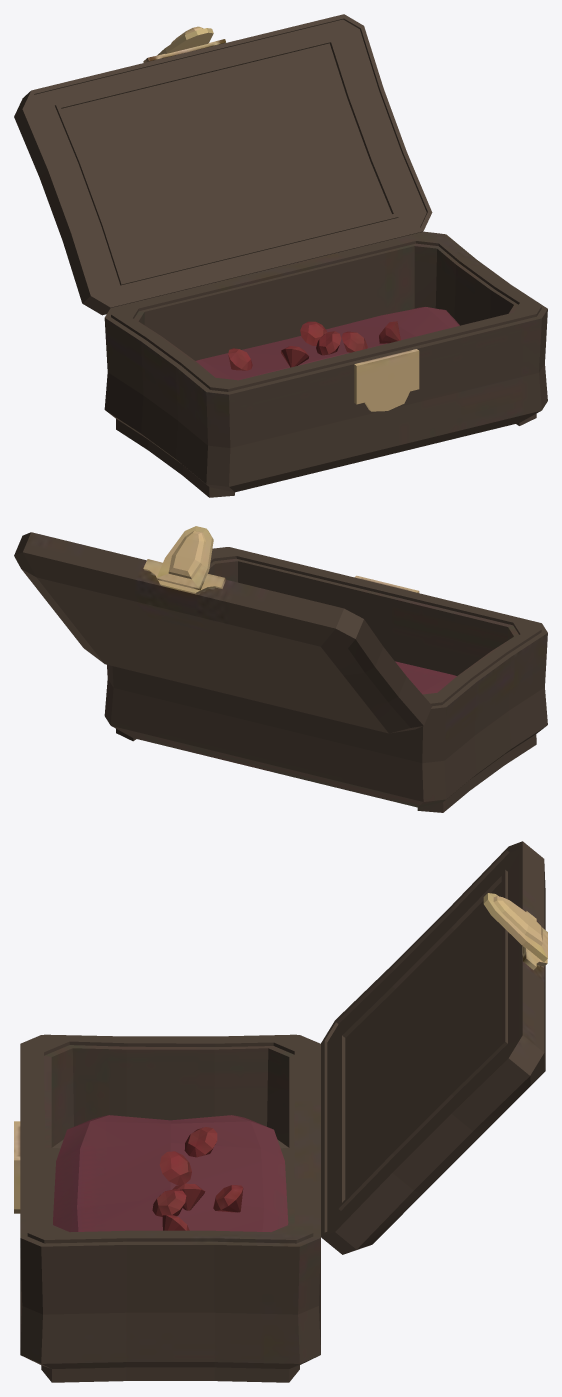
Rendered from Case.fbx.
3 renders of one model, top to bottom at view 1: azimuth 30°, elevation 25°; view 2: azimuth 150°, elevation 25°; view 3: azimuth 270°, elevation 25°, orthographic. The views are drawn at different scales.
Parts seen in each view (by area): view 1: defaultMaterial.001, defaultMaterial; view 2: defaultMaterial, defaultMaterial.001; view 3: defaultMaterial, defaultMaterial.001.
Boxes of the visible parts, x1=… form: defaultMaterial.001: x1=14, y1=14, x2=432, y2=315; defaultMaterial: x1=104, y1=231, x2=547, y2=497; defaultMaterial: x1=104, y1=547, x2=547, y2=812; defaultMaterial.001: x1=14, y1=526, x2=431, y2=733; defaultMaterial: x1=14, y1=1034, x2=320, y2=1382; defaultMaterial.001: x1=321, y1=841, x2=547, y2=1254.
Bounding box in the file's own units: 10000 × 8478 × 10654.
